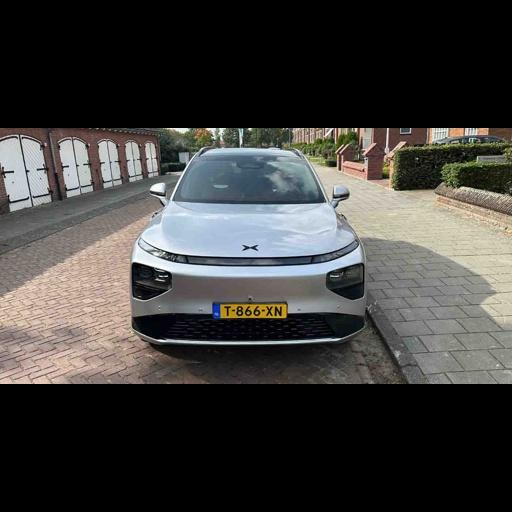car: (432, 134, 505, 144)
suv: (131, 150, 364, 344)
